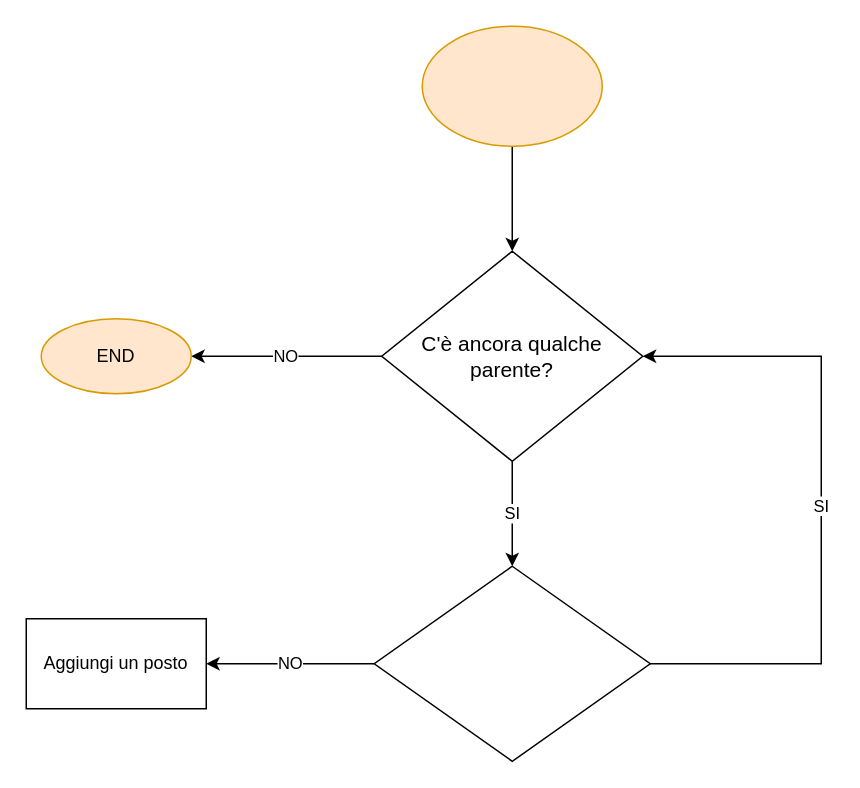
This 860x788 diagram has some shape labels left out. The box of each missing label's shape, as (x1, y1, x2, y2) in pixels:
Ci sono tutti i posti nella tavola?: (373, 565, 650, 761)
START: (421, 25, 602, 146)
